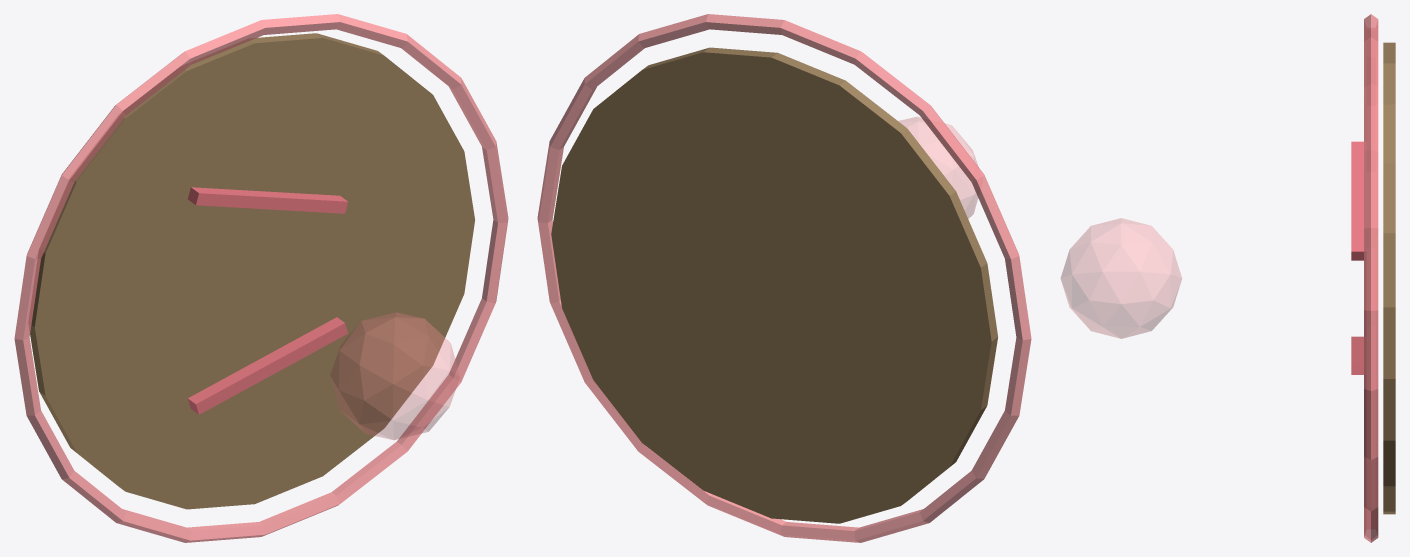
Rendered from 07_weather_terrain_nature_effect.glb.
3 views of the same model, side by side, from view 1: azimuth 30°, elevation 25°; view 2: azimuth 150°, elevation 25°; view 3: azimuth 270°, elevation 25° (orthographic). The views are drawn at different scales.
Visible parts, largest first — view 1: terrain_patch, weather_boundary, weather_orb, terrain_marker_a, terrain_marker_b; view 2: terrain_patch, weather_boundary, weather_orb; view 3: weather_orb, weather_boundary, terrain_patch, terrain_marker_b, terrain_marker_a.
Part boxes in pixels (box(x1,y1,x2,y2)): terrain_patch: box(29, 33, 474, 509); weather_boundary: box(14, 14, 508, 542); weather_orb: box(330, 312, 459, 439); terrain_marker_a: box(188, 317, 347, 414); terrain_marker_b: box(188, 187, 347, 213); terrain_patch: box(551, 47, 997, 523); weather_boundary: box(537, 14, 1031, 542); weather_orb: box(898, 117, 978, 218); weather_orb: box(1060, 218, 1181, 338); weather_boundary: box(1364, 14, 1378, 542); terrain_patch: box(1383, 42, 1395, 514); terrain_marker_b: box(1351, 141, 1365, 260); terrain_marker_a: box(1351, 336, 1365, 374).
Bounding box in the file's own units: 1.75 × 1.75 × 1.1.
